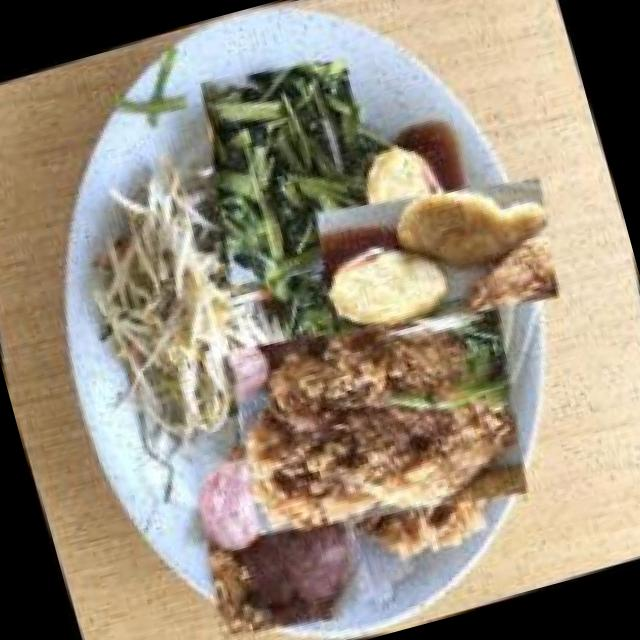chicken_nuggets: (312, 130, 562, 380)
chinese_sausage: (170, 423, 393, 640)
fried_chicken: (215, 255, 542, 583)
mung_bean_sprouts: (42, 148, 322, 476)
water_spinach: (172, 38, 408, 308)
